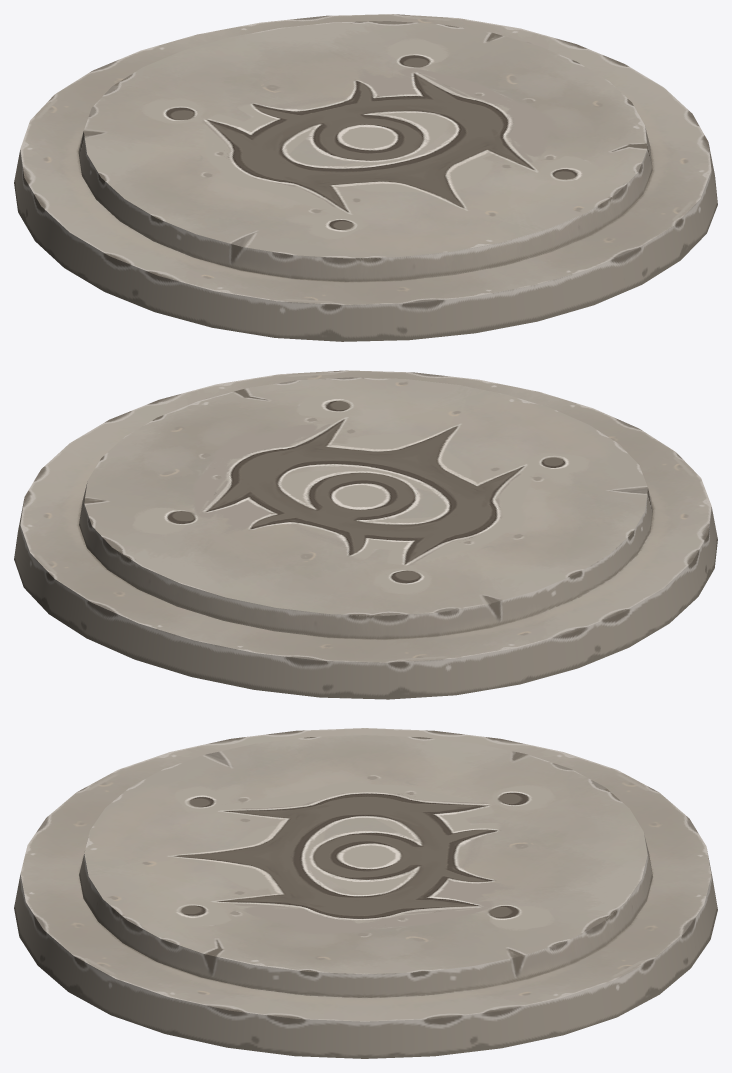
File: dungeon_teleport.fbx
3 renders of one model, top to bottom at view 1: azimuth 30°, elevation 25°; view 2: azimuth 150°, elevation 25°; view 3: azimuth 270°, elevation 25°, orthographic.
Parts seen in each view (by area): view 1: Object057_Mesh.021; view 2: Object057_Mesh.021; view 3: Object057_Mesh.021.
Boxes of the visible parts, left/top/right/bottom form: Object057_Mesh.021: left=14, top=14, right=717, bottom=341; Object057_Mesh.021: left=14, top=370, right=717, bottom=699; Object057_Mesh.021: left=14, top=728, right=717, bottom=1058.
Bounding box in the file's own units: 191 × 16.27 × 190.
